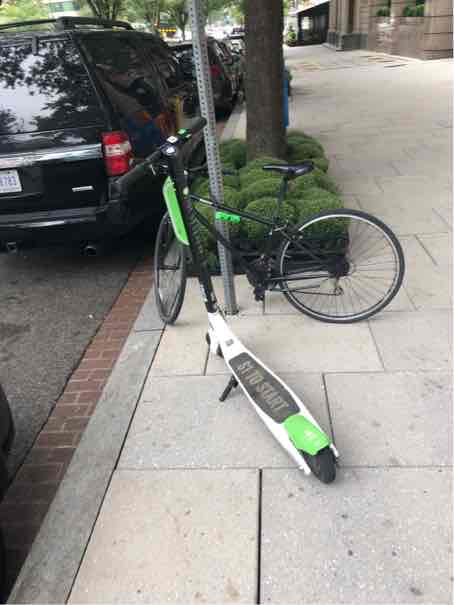scooter: (93, 101, 359, 472)
